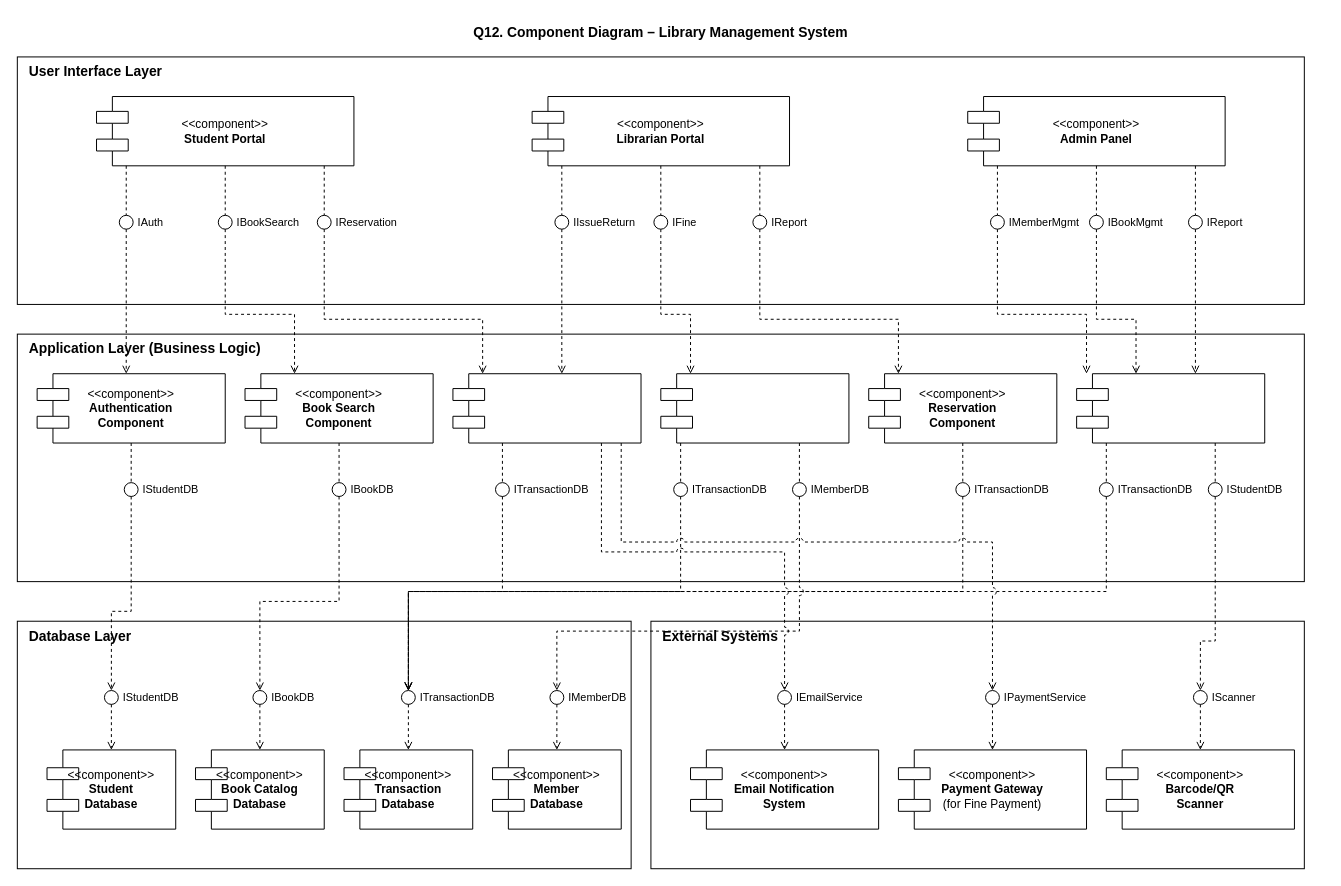
This 1341x886 diagram has some shape labels left out. Each missing label, with the centre of its shape:
"<<component>> Book Issue & Return Component" belongs at point (546, 408).
"<<component>> Fine Calculation Component" belongs at point (754, 408).
"<<component>> Report Generation Component" belongs at point (1170, 408).
